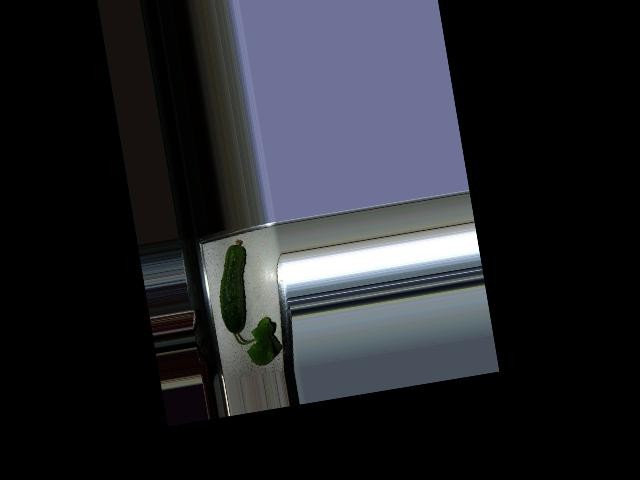cucumber: (210, 238, 258, 336)
